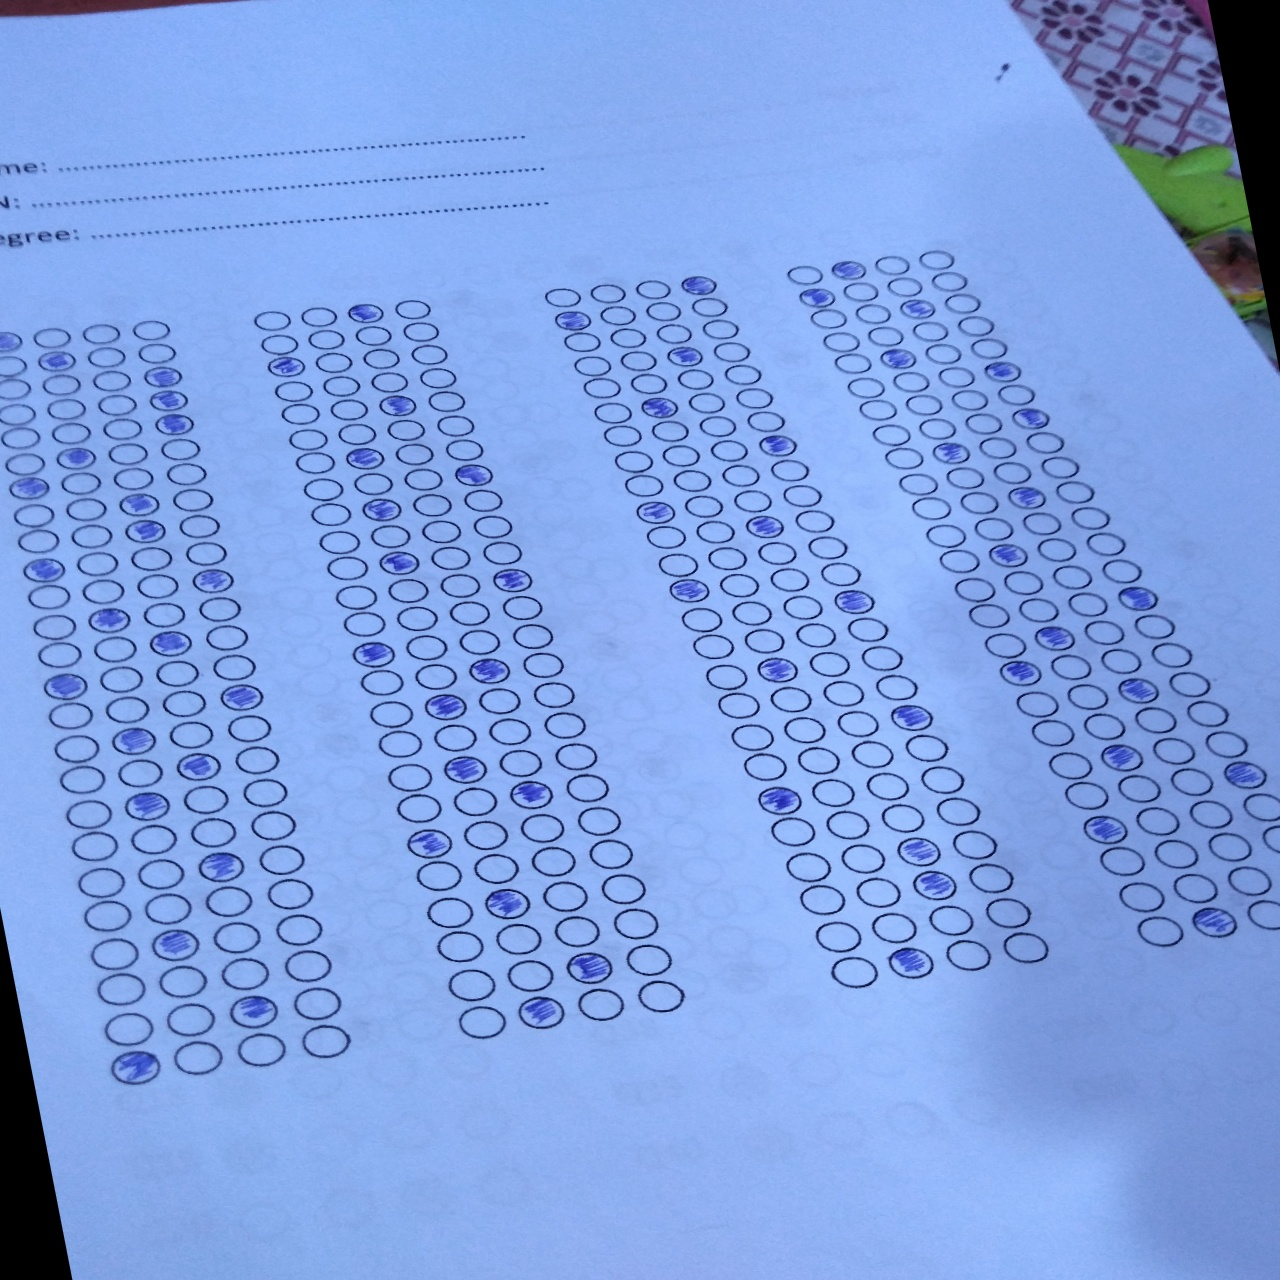not-c: (161, 999, 219, 1039), (295, 1022, 353, 1062), (100, 1006, 157, 1046), (232, 1029, 290, 1069), (207, 918, 265, 958), (1114, 878, 1175, 915), (1167, 867, 1228, 905), (1092, 844, 1155, 880), (94, 971, 151, 1009), (168, 1037, 225, 1076), (1126, 913, 1187, 949), (1223, 862, 1280, 899), (123, 821, 181, 857), (86, 935, 144, 971), (634, 978, 690, 1014), (443, 966, 499, 1002), (610, 906, 666, 941), (620, 942, 676, 978), (492, 920, 549, 955), (467, 849, 523, 884), (551, 913, 607, 948), (431, 928, 488, 964), (778, 849, 835, 884), (810, 918, 866, 953), (925, 904, 981, 939), (980, 893, 1036, 928), (862, 769, 918, 804), (877, 797, 933, 832), (947, 826, 1003, 862), (454, 1005, 511, 1039), (502, 956, 559, 990), (863, 908, 920, 942), (794, 884, 851, 918), (272, 913, 327, 948), (583, 835, 638, 870), (941, 938, 996, 973), (998, 930, 1054, 964), (593, 870, 649, 904), (573, 985, 629, 1019), (539, 879, 595, 913), (524, 844, 580, 878), (424, 896, 481, 930), (849, 874, 905, 908), (835, 842, 891, 876), (410, 858, 467, 892), (900, 731, 956, 765), (913, 762, 969, 796), (932, 795, 988, 829), (961, 862, 1017, 896), (256, 840, 309, 876), (134, 856, 188, 891), (218, 955, 272, 990), (156, 964, 210, 999), (80, 896, 134, 931), (74, 865, 128, 900), (200, 881, 256, 915), (826, 954, 881, 988), (265, 876, 318, 911), (152, 658, 206, 692), (290, 986, 343, 1020), (281, 946, 335, 980), (139, 893, 193, 927), (154, 687, 207, 720), (207, 651, 263, 682), (43, 699, 96, 731), (165, 719, 216, 753), (114, 756, 168, 788), (64, 829, 118, 860), (247, 808, 298, 840), (186, 815, 237, 847), (94, 663, 150, 693), (56, 765, 110, 796), (52, 731, 103, 763), (1058, 779, 1110, 811), (1096, 644, 1148, 675), (1148, 734, 1199, 765), (1143, 638, 1194, 669), (1032, 535, 1083, 566), (63, 799, 116, 830), (1061, 679, 1114, 709), (392, 602, 442, 634), (1043, 748, 1094, 779), (1151, 837, 1201, 869), (1078, 617, 1129, 648), (495, 748, 546, 778), (474, 687, 525, 717), (550, 742, 601, 772), (563, 772, 614, 803), (765, 686, 817, 716), (448, 784, 499, 815), (222, 713, 273, 743), (401, 633, 452, 663), (373, 729, 424, 760), (365, 700, 416, 730), (102, 695, 154, 726), (181, 785, 232, 816), (842, 611, 893, 641), (904, 733, 955, 763), (1115, 772, 1166, 803), (1046, 653, 1097, 683), (998, 567, 1049, 598), (919, 518, 971, 549), (1130, 706, 1182, 736), (1060, 501, 1111, 531), (1094, 554, 1145, 585), (200, 622, 253, 652), (527, 680, 578, 710), (443, 598, 493, 628), (484, 717, 535, 748), (572, 804, 622, 835), (741, 627, 791, 658), (724, 598, 775, 628), (767, 817, 817, 847), (728, 722, 778, 753), (689, 633, 740, 663), (458, 819, 509, 850), (764, 564, 815, 594), (821, 809, 871, 839), (791, 744, 842, 775), (782, 715, 832, 745), (238, 776, 288, 806), (411, 660, 462, 690), (872, 672, 922, 702), (1206, 831, 1257, 862), (1077, 712, 1128, 742), (1015, 594, 1065, 625), (978, 629, 1028, 660), (933, 545, 983, 576), (1201, 729, 1252, 760), (1165, 668, 1216, 699), (1126, 610, 1177, 640), (812, 558, 863, 588), (804, 530, 855, 560), (1064, 590, 1115, 620), (1049, 563, 1099, 593), (776, 717, 828, 747), (701, 662, 753, 692), (429, 723, 481, 753), (810, 778, 862, 808), (230, 745, 281, 775), (392, 794, 443, 823), (354, 668, 406, 697), (857, 642, 908, 672), (835, 709, 886, 738), (1026, 716, 1077, 745), (1130, 806, 1182, 836), (1164, 764, 1216, 794), (1183, 697, 1234, 727), (819, 678, 869, 708), (91, 632, 138, 663), (451, 627, 504, 655), (538, 710, 588, 740), (736, 753, 787, 782), (713, 689, 763, 719), (518, 813, 568, 843), (779, 593, 830, 622), (382, 758, 433, 788), (1008, 689, 1058, 719), (845, 738, 896, 768), (961, 601, 1012, 631), (947, 576, 998, 605), (1185, 798, 1235, 828), (1080, 527, 1130, 557), (1242, 897, 1280, 935), (384, 578, 435, 606), (952, 486, 1001, 515), (365, 522, 415, 549), (134, 571, 182, 599), (892, 474, 940, 502), (1053, 476, 1098, 505), (1039, 454, 1084, 483), (196, 595, 245, 622), (332, 583, 381, 610), (307, 501, 356, 527), (15, 527, 64, 554), (1237, 790, 1280, 821), (518, 651, 565, 679), (508, 621, 554, 649), (969, 511, 1014, 540), (995, 379, 1040, 408), (1024, 428, 1069, 457), (333, 421, 383, 447), (309, 349, 360, 375), (321, 554, 372, 580), (314, 529, 365, 554), (66, 523, 116, 549), (173, 513, 222, 540), (166, 486, 215, 513), (159, 459, 207, 486), (38, 370, 86, 397), (270, 379, 318, 406), (342, 610, 390, 636), (11, 501, 59, 527), (678, 606, 726, 633), (804, 649, 850, 678), (792, 621, 838, 649), (1017, 508, 1061, 537), (324, 397, 373, 423), (284, 425, 333, 451), (139, 601, 189, 627), (55, 471, 104, 497), (45, 423, 94, 449), (36, 642, 86, 668), (30, 614, 80, 640), (79, 320, 125, 347), (29, 324, 76, 350), (437, 572, 484, 599), (125, 315, 173, 341), (181, 542, 229, 567), (157, 438, 205, 464), (631, 274, 679, 300), (540, 281, 588, 307), (392, 293, 440, 319), (248, 306, 297, 332), (97, 416, 145, 442), (302, 477, 350, 503), (291, 448, 339, 474), (275, 403, 324, 429), (23, 584, 72, 610), (72, 551, 120, 577), (132, 340, 181, 366), (349, 471, 399, 496), (318, 374, 367, 399), (301, 328, 350, 353), (63, 496, 113, 520), (94, 393, 141, 418), (256, 331, 302, 356), (293, 302, 340, 328), (1, 425, 46, 452), (990, 459, 1035, 486), (87, 368, 135, 393), (79, 580, 127, 605), (560, 329, 606, 355), (83, 346, 129, 372), (414, 367, 461, 392), (577, 375, 624, 400), (428, 544, 475, 568), (608, 448, 655, 472), (590, 400, 636, 424), (710, 338, 757, 362), (888, 367, 935, 392), (922, 341, 969, 366), (973, 435, 1020, 459), (129, 545, 173, 571), (867, 420, 912, 445), (942, 467, 987, 492), (1, 451, 47, 476), (498, 595, 544, 620), (459, 489, 505, 513), (434, 413, 479, 437), (646, 418, 692, 443), (642, 524, 688, 549), (728, 488, 774, 512), (681, 495, 727, 519), (779, 483, 825, 508), (765, 456, 811, 481), (730, 384, 776, 409), (720, 363, 765, 388), (700, 318, 745, 342), (880, 445, 926, 470), (901, 392, 947, 416), (842, 375, 887, 400), (829, 350, 874, 375), (962, 409, 1008, 434), (925, 267, 971, 292), (914, 247, 960, 272), (478, 540, 525, 564), (425, 390, 472, 414), (568, 354, 615, 377), (719, 463, 765, 486), (706, 437, 753, 461), (704, 546, 751, 570), (692, 520, 738, 544), (658, 444, 704, 468), (907, 496, 954, 519), (818, 332, 865, 355), (45, 399, 89, 423), (361, 346, 406, 370), (392, 442, 436, 467), (696, 414, 741, 438), (676, 367, 721, 392), (855, 396, 899, 421), (933, 365, 978, 389), (948, 387, 993, 411), (967, 334, 1012, 359), (953, 312, 998, 336), (1, 401, 43, 427), (384, 416, 430, 440), (368, 370, 414, 394), (350, 324, 396, 347), (469, 515, 515, 538), (410, 493, 456, 517), (401, 467, 447, 490), (417, 518, 463, 542), (621, 474, 667, 497), (600, 422, 646, 445), (625, 372, 670, 395), (614, 349, 660, 373), (742, 409, 788, 433), (403, 342, 451, 365), (105, 442, 149, 467), (399, 320, 443, 343), (443, 436, 488, 459), (418, 519, 465, 542), (655, 553, 700, 577), (683, 390, 728, 414), (667, 470, 712, 493), (755, 540, 799, 564), (792, 508, 837, 531), (915, 417, 960, 441), (96, 393, 138, 417), (716, 573, 762, 595), (871, 253, 915, 275), (941, 292, 986, 314), (781, 264, 825, 286), (641, 299, 685, 321), (908, 320, 952, 342), (806, 307, 850, 329), (862, 325, 907, 346), (113, 467, 154, 490), (585, 281, 629, 302), (594, 304, 636, 326), (653, 321, 695, 343), (688, 297, 731, 318), (852, 302, 896, 324), (839, 280, 881, 301), (1, 377, 35, 403), (607, 328, 648, 349), (883, 274, 926, 294), (1257, 823, 1280, 853), (1, 354, 30, 377)
taken-c: (512, 990, 570, 1032), (105, 1049, 170, 1085), (1187, 904, 1247, 942), (880, 945, 941, 982), (222, 993, 284, 1028), (905, 867, 966, 903), (561, 949, 620, 983), (147, 928, 206, 961), (1076, 812, 1132, 846), (884, 701, 940, 735), (102, 726, 164, 756), (893, 835, 949, 867), (483, 886, 536, 919), (195, 849, 247, 881), (1027, 622, 1081, 654), (345, 639, 399, 669), (1094, 742, 1148, 772), (1111, 675, 1163, 706), (215, 682, 267, 712), (18, 554, 70, 584), (402, 828, 455, 857), (441, 754, 493, 783), (120, 790, 172, 819), (1219, 760, 1272, 789), (83, 606, 136, 634), (753, 785, 805, 813), (173, 751, 226, 779), (1112, 583, 1163, 612), (825, 588, 879, 615), (465, 658, 517, 686), (508, 781, 559, 809), (983, 540, 1035, 568), (40, 670, 89, 700), (340, 298, 393, 325), (29, 348, 82, 375), (423, 693, 474, 721), (998, 658, 1046, 687), (48, 444, 101, 470), (151, 411, 199, 440), (147, 629, 196, 656), (927, 440, 976, 467), (662, 343, 710, 370), (113, 492, 162, 518), (753, 658, 802, 683), (755, 433, 802, 459), (145, 387, 192, 414), (1006, 484, 1050, 512), (450, 462, 501, 486), (1, 476, 52, 501), (676, 272, 724, 298), (139, 363, 188, 389), (874, 346, 922, 372), (635, 394, 685, 418), (123, 520, 172, 545), (741, 515, 790, 539), (665, 579, 714, 604), (486, 568, 536, 593), (376, 550, 423, 576), (359, 497, 406, 523), (633, 501, 681, 525), (188, 567, 236, 592), (1006, 406, 1054, 430), (550, 307, 597, 332), (896, 294, 942, 319), (263, 355, 311, 379), (340, 447, 389, 469), (981, 360, 1029, 382), (375, 395, 420, 418), (825, 258, 872, 280), (792, 285, 839, 307), (1, 329, 30, 355), (1276, 853, 1280, 890)
